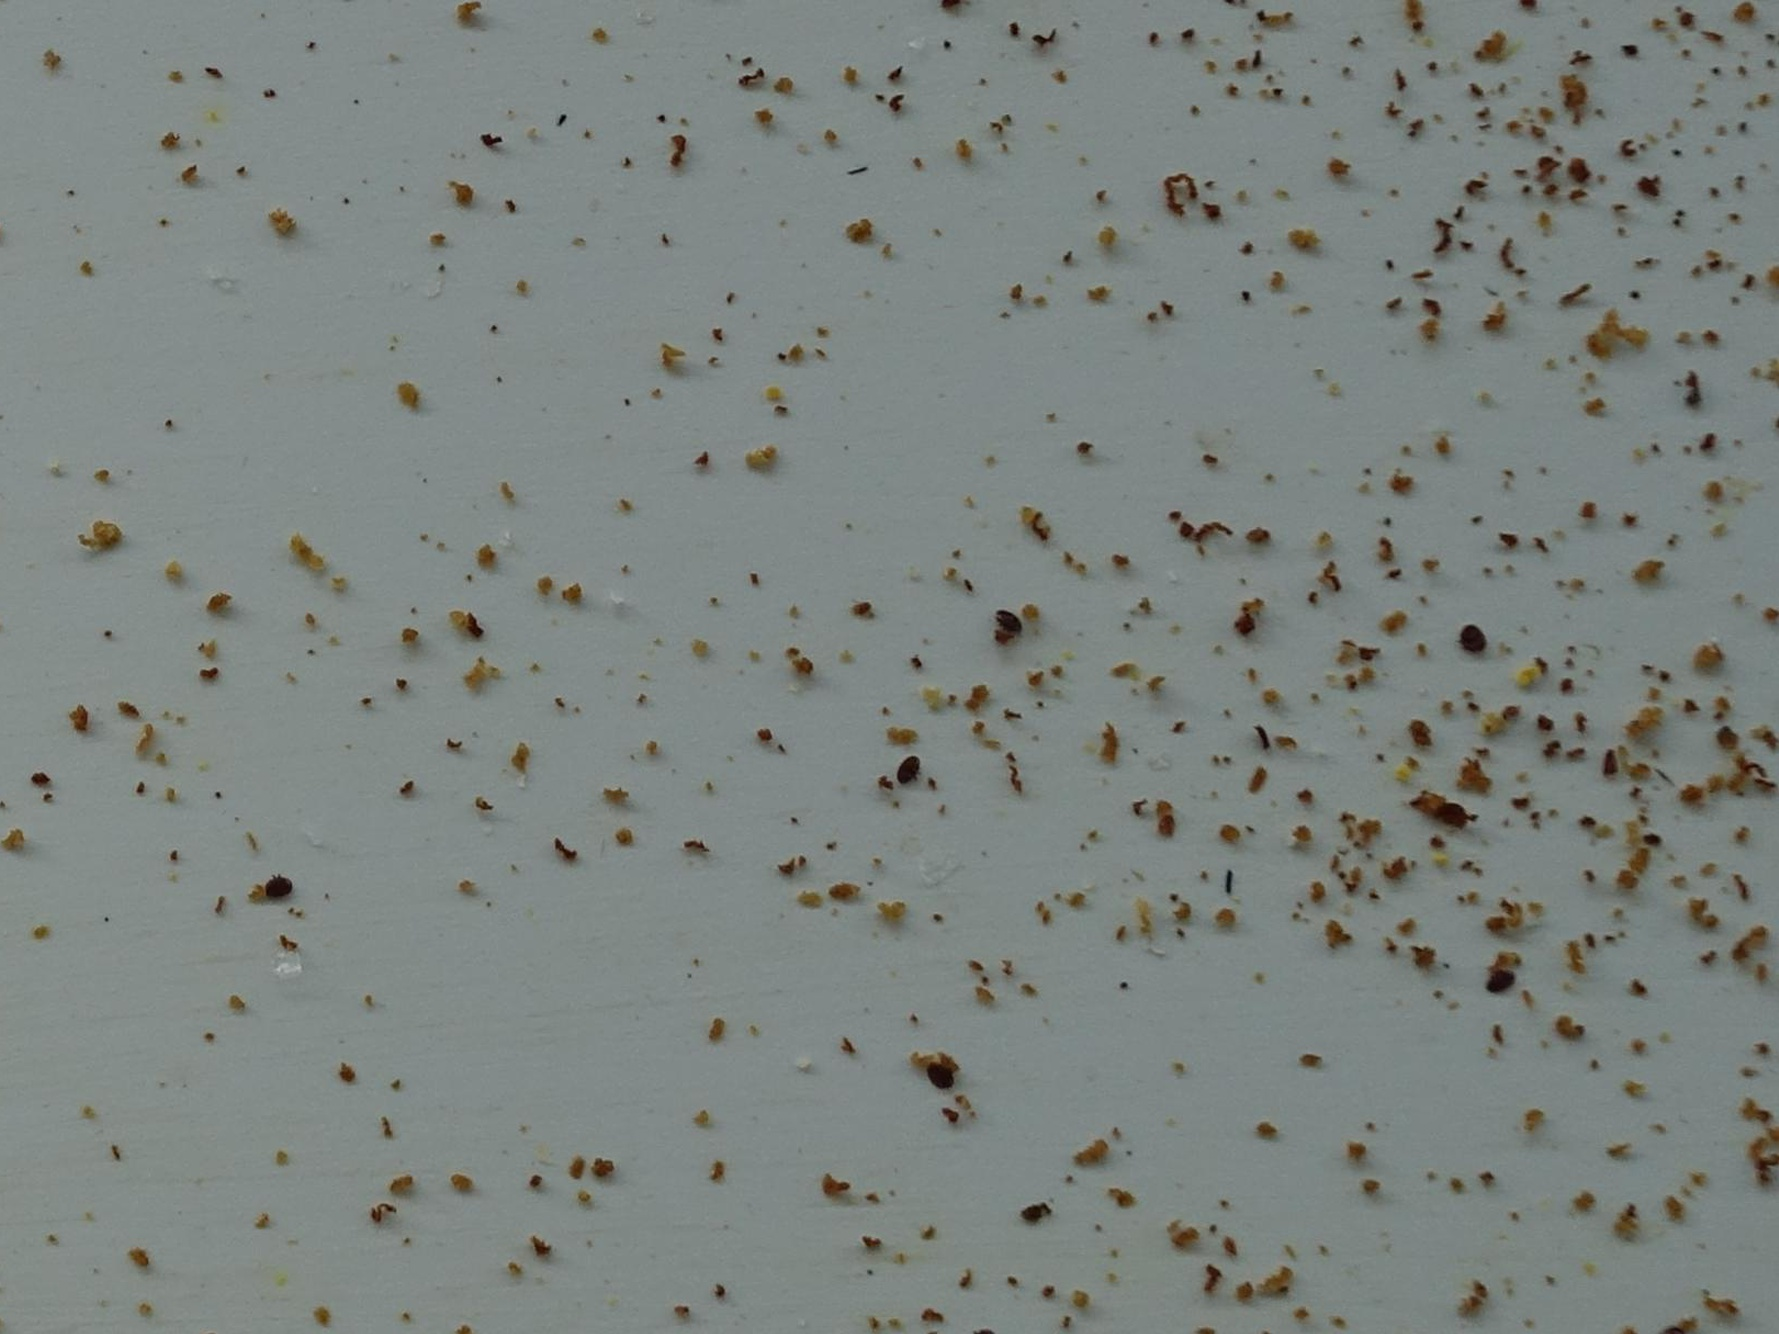Varroa: (888, 759, 918, 786), (1488, 968, 1513, 996), (932, 1059, 957, 1085), (266, 874, 291, 900), (1000, 607, 1018, 635), (1462, 631, 1481, 656)
